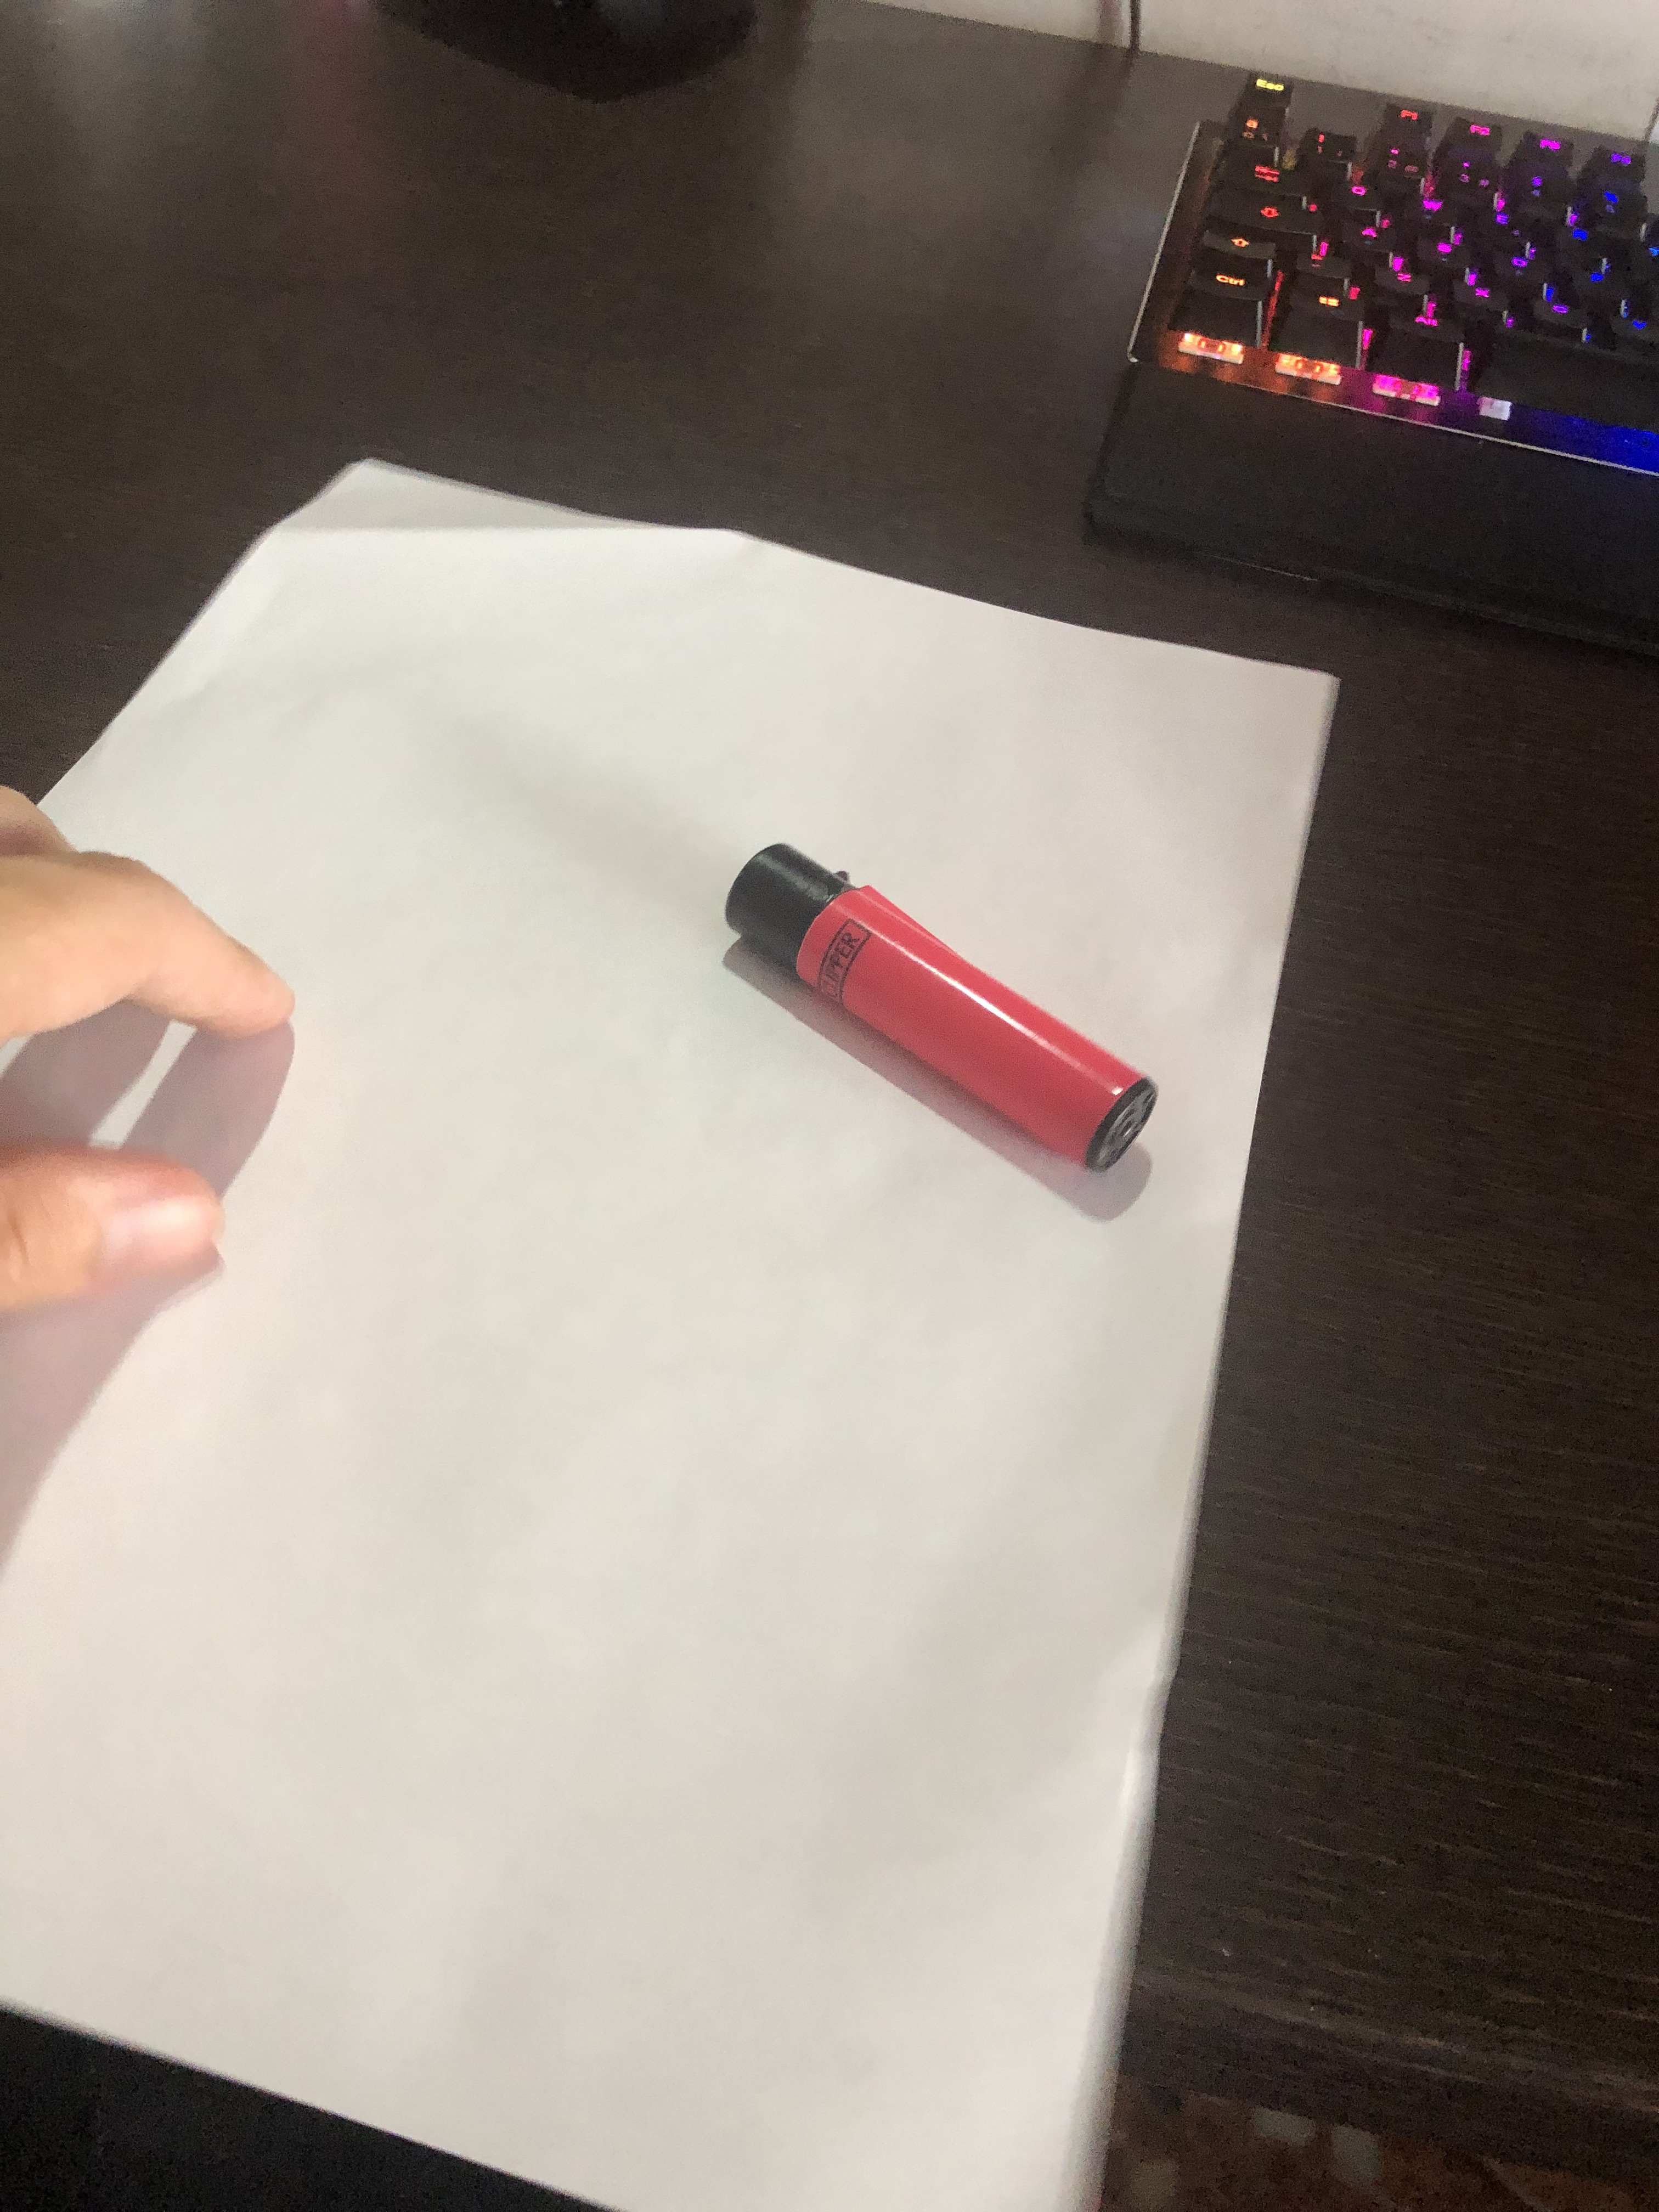Mechero: (711, 834, 1178, 1183)
